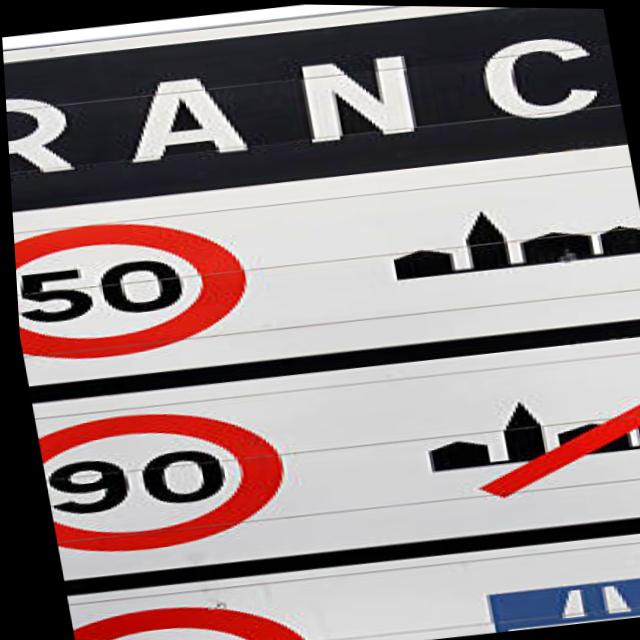Speed Limit -90-: (27, 386, 303, 565)
